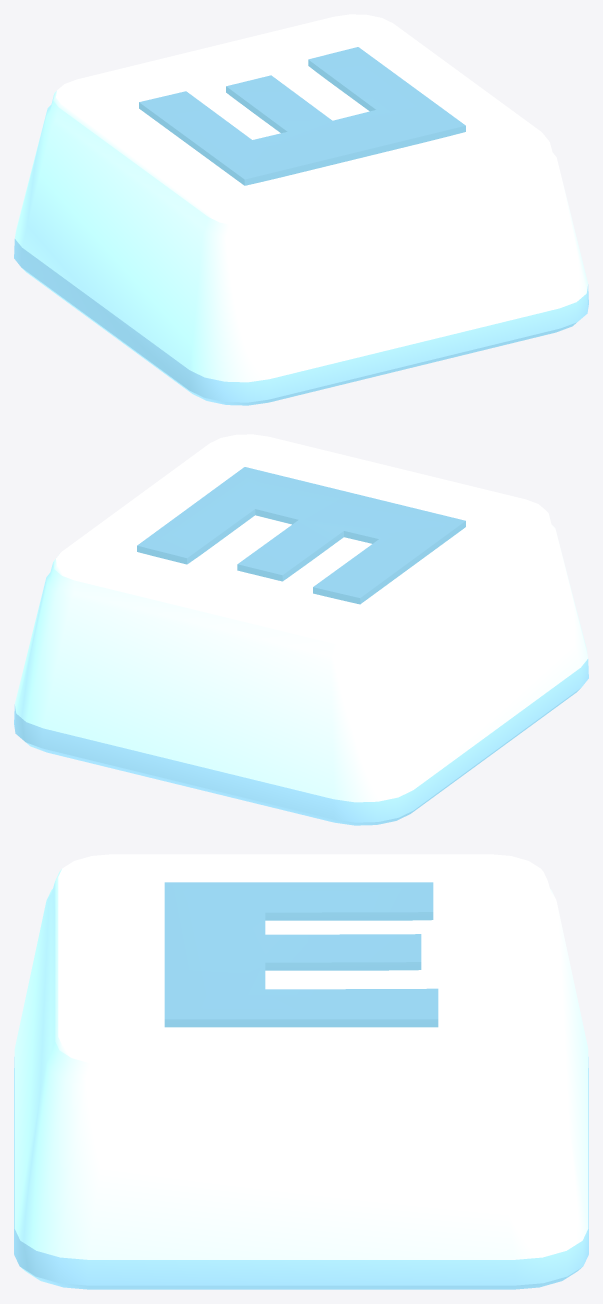
Rendered from props__Key_E.glb.
3 renders of one model, top to bottom at view 1: azimuth 30°, elevation 25°; view 2: azimuth 150°, elevation 25°; view 3: azimuth 270°, elevation 25°, orthographic. The views are drawn at different scales.
Visible parts, largest first — view 1: Key_E; view 2: Key_E; view 3: Key_E.
Part boxes in pixels (x1,y1,x2,y2): Key_E: [14, 14, 588, 405]; Key_E: [14, 434, 588, 825]; Key_E: [14, 854, 588, 1289].
Size of the model in its own units: 3.9 by 1.65 by 3.9.
